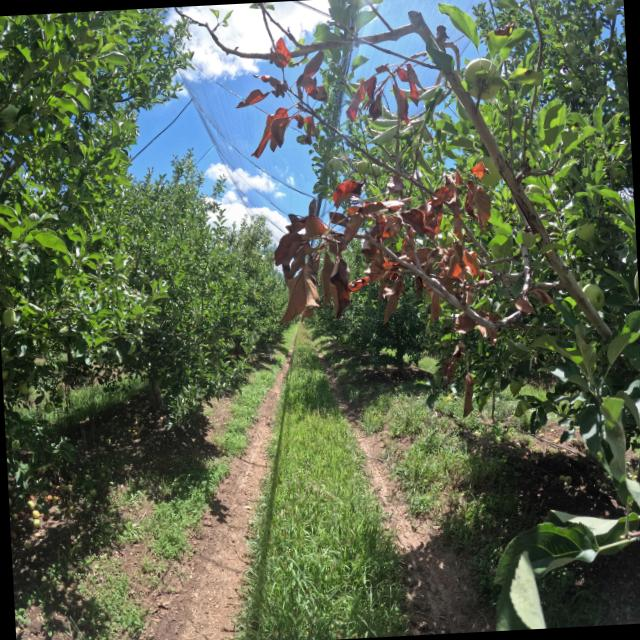-FireBlight-: (242, 27, 545, 420)
